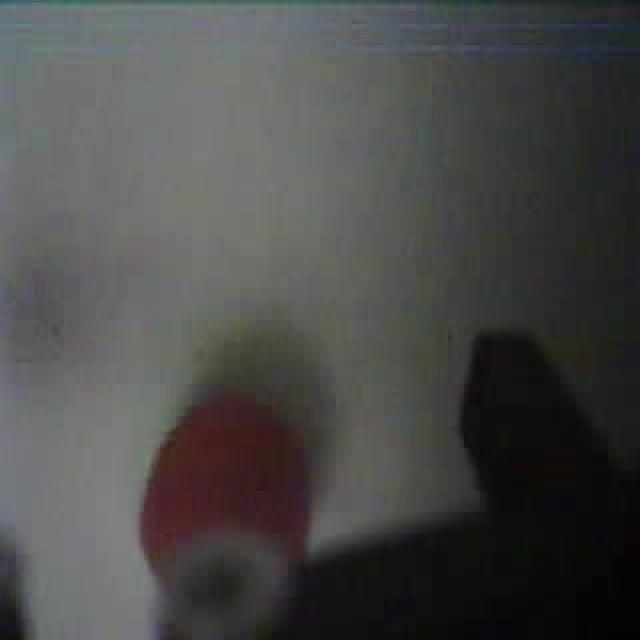red_ball: (136, 387, 316, 637)
